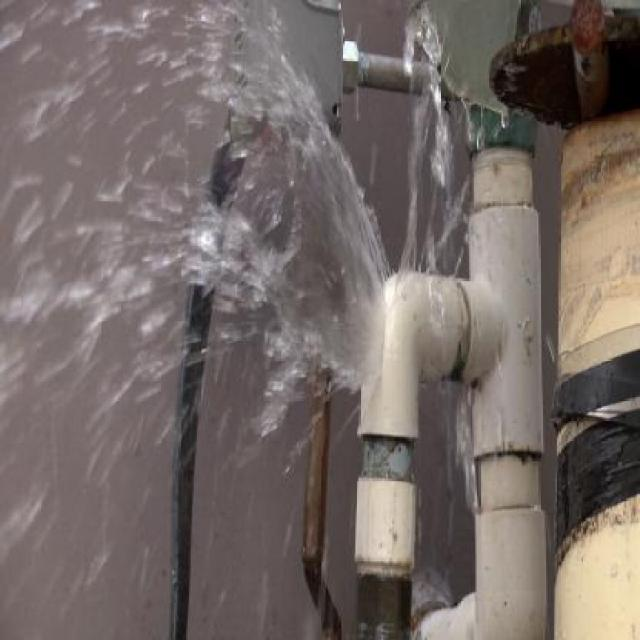pipe burst: (0, 0, 387, 424), (398, 0, 524, 516)
